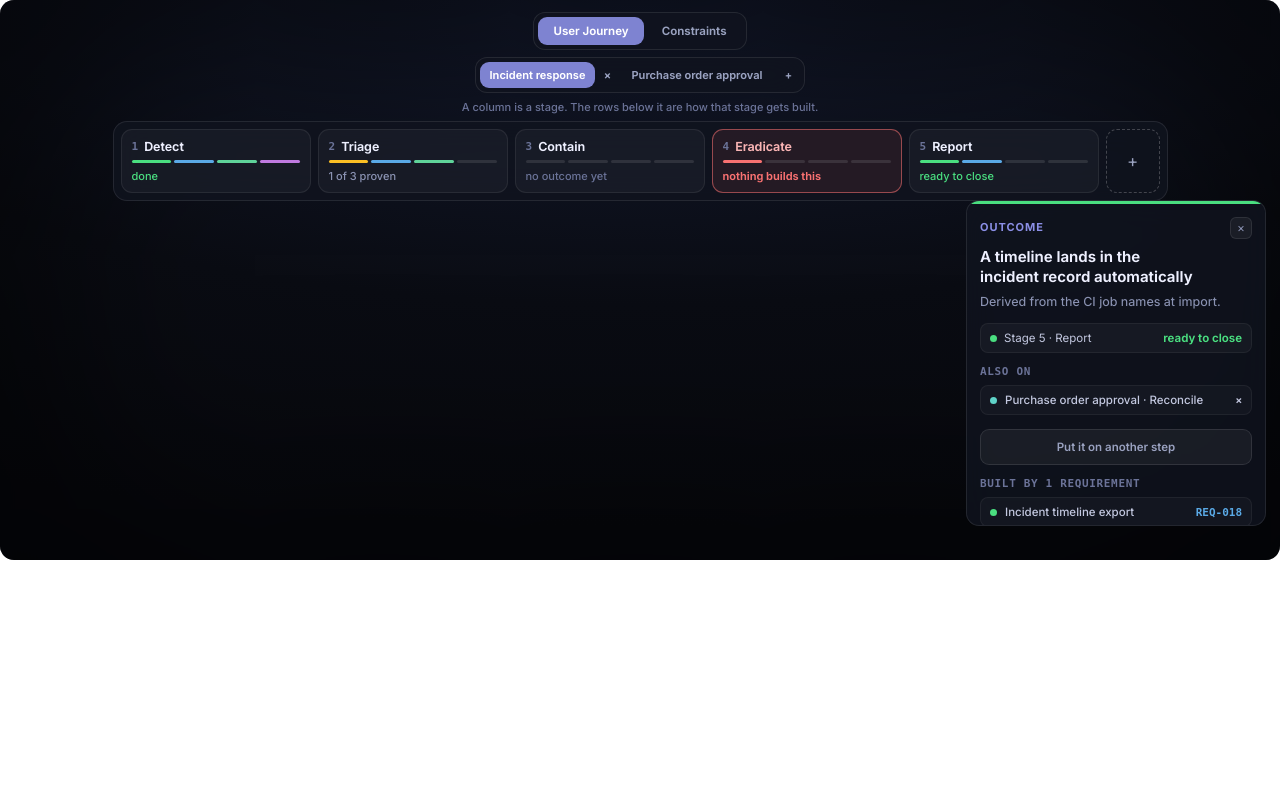
Test: W · an outcome › also on, with its unmap; put it on another step; the requirements that build it
Expected: the text "Derived from the CI job names at import." is shown, x1=980 y1=292 x2=1252 y2=311
Expected: the elements with test id "space-also" read "Purchase order approval · Reconcile×", in this order, x1=980 y1=385 x2=1252 y2=415
Step 1. Click the button with test id "space-unmap" → (1239, 400), box x1=1235 y1=394 x2=1242 y2=407
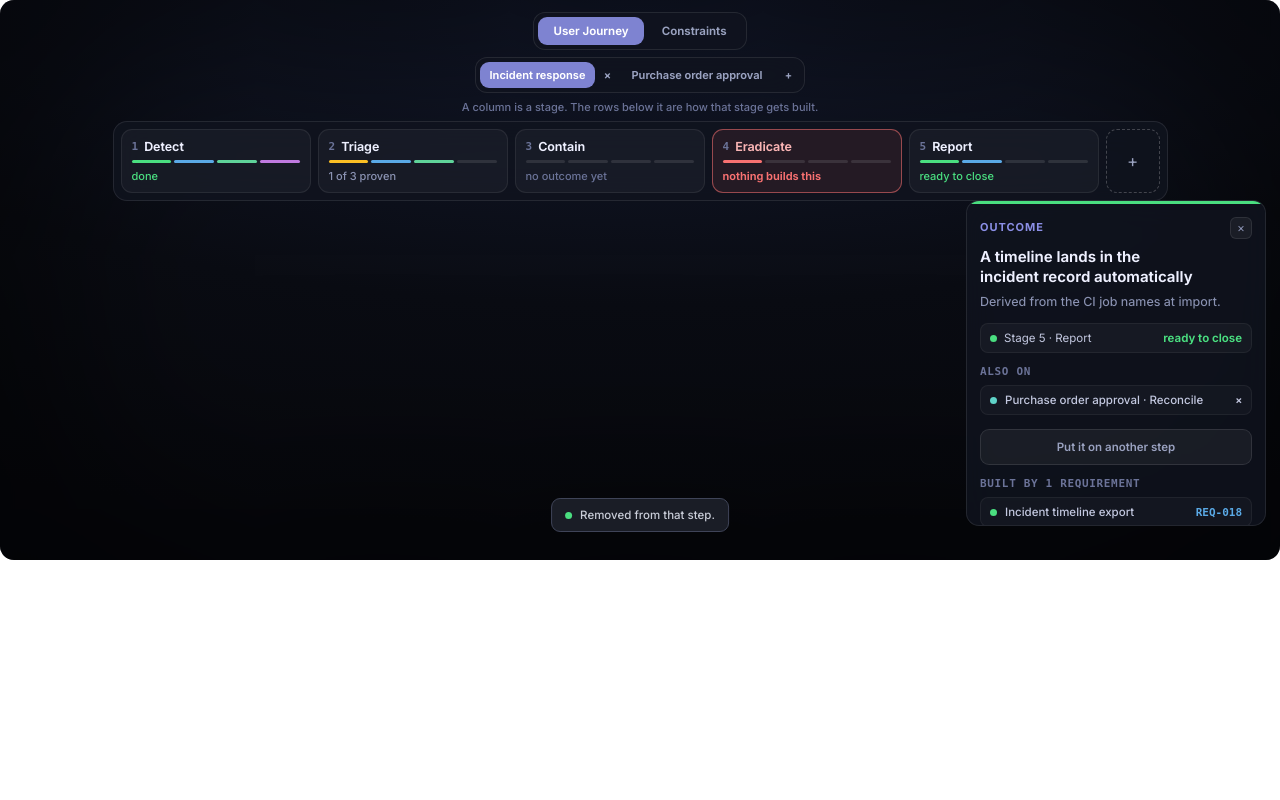
Step 2. Click the button with test id "space-also-form" → (1116, 447), box x1=980 y1=429 x2=1252 y2=465
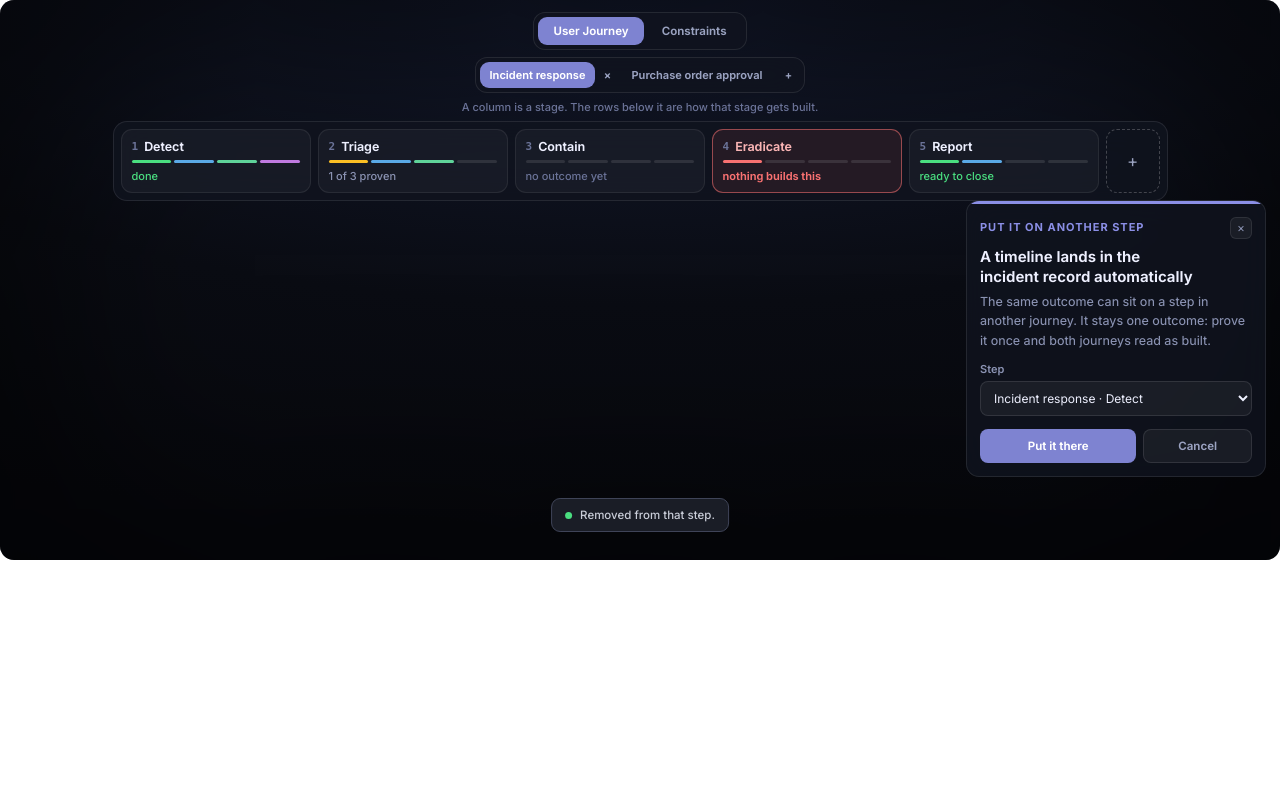
Step 3. Select "Purchase order approval · Request" in the dropdown with test id "space-also-step" → (1116, 399), box x1=980 y1=381 x2=1252 y2=416
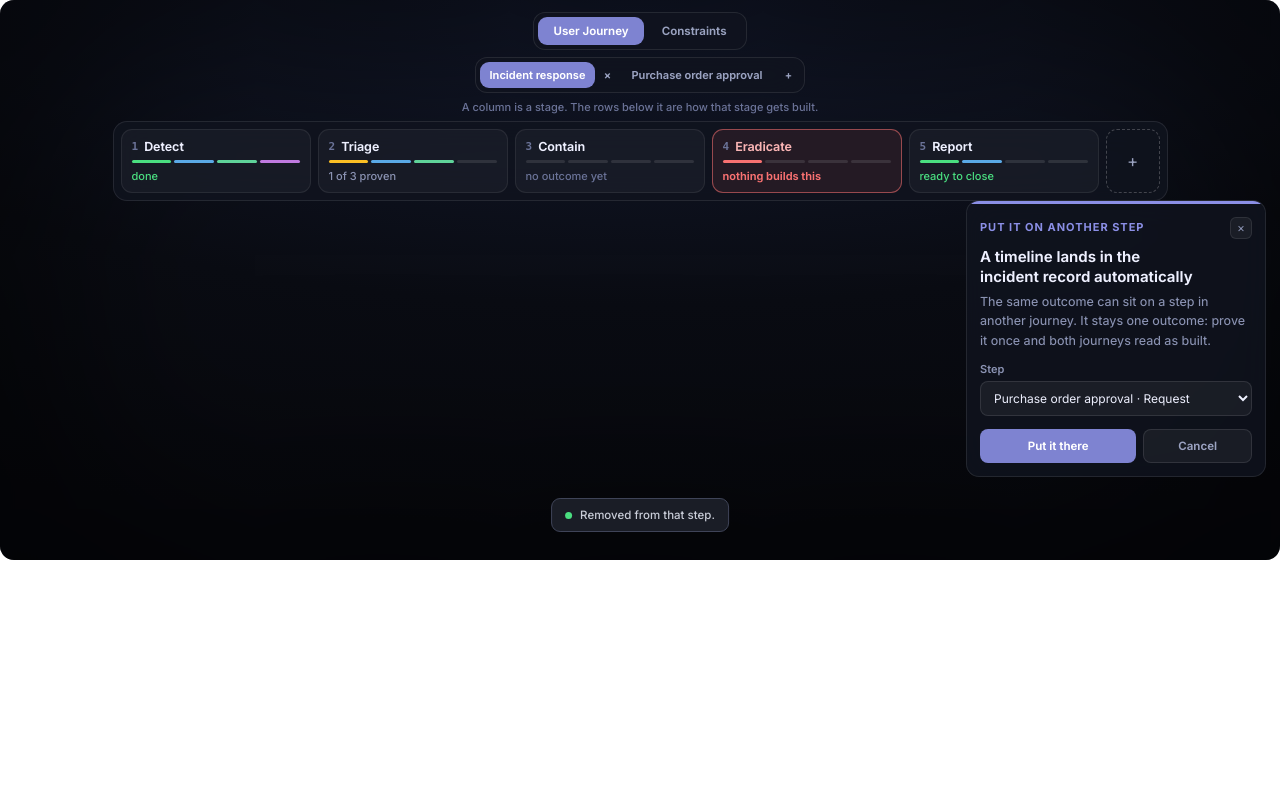
Step 4. Click the button with test id "space-form-save" → (1058, 446), box x1=980 y1=429 x2=1136 y2=463
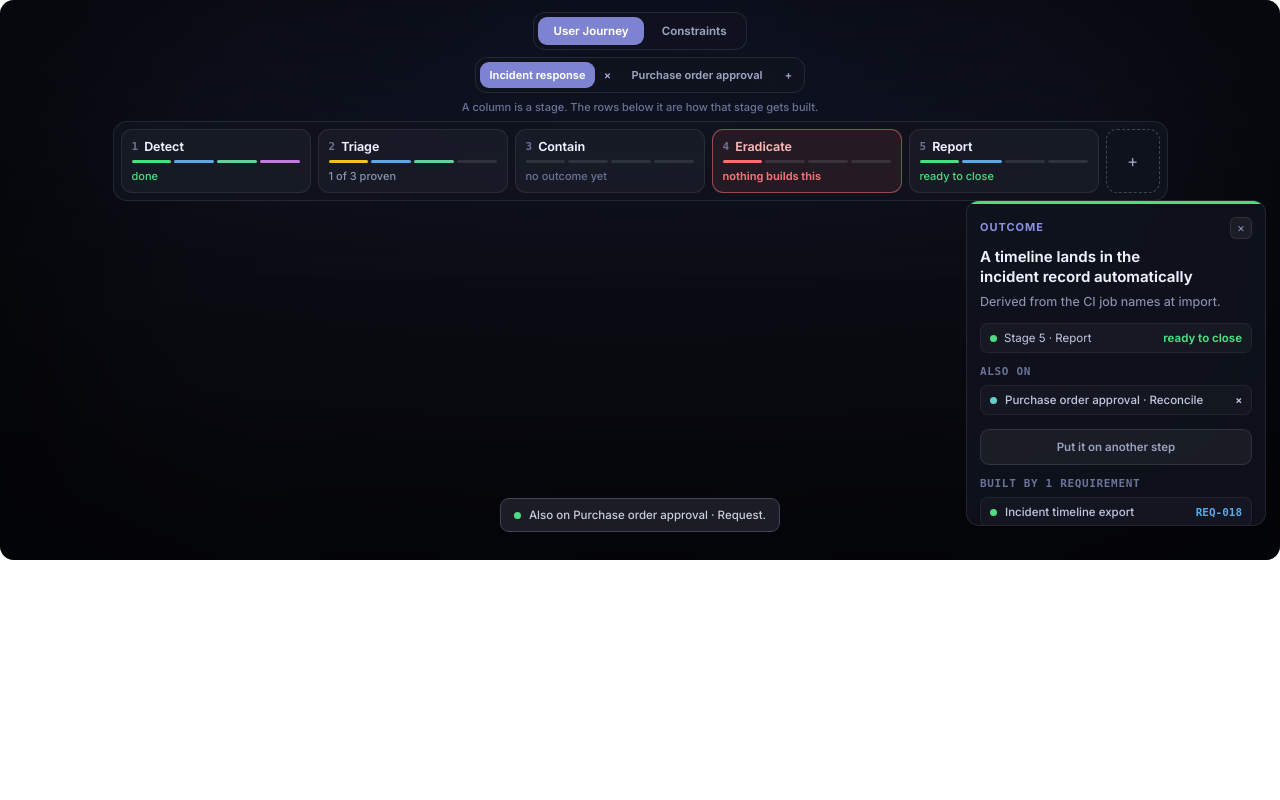
Expected: the message with test id "space-toast" reads "Also on Purchase order approval · Request.", x1=529 y1=508 x2=766 y2=522
